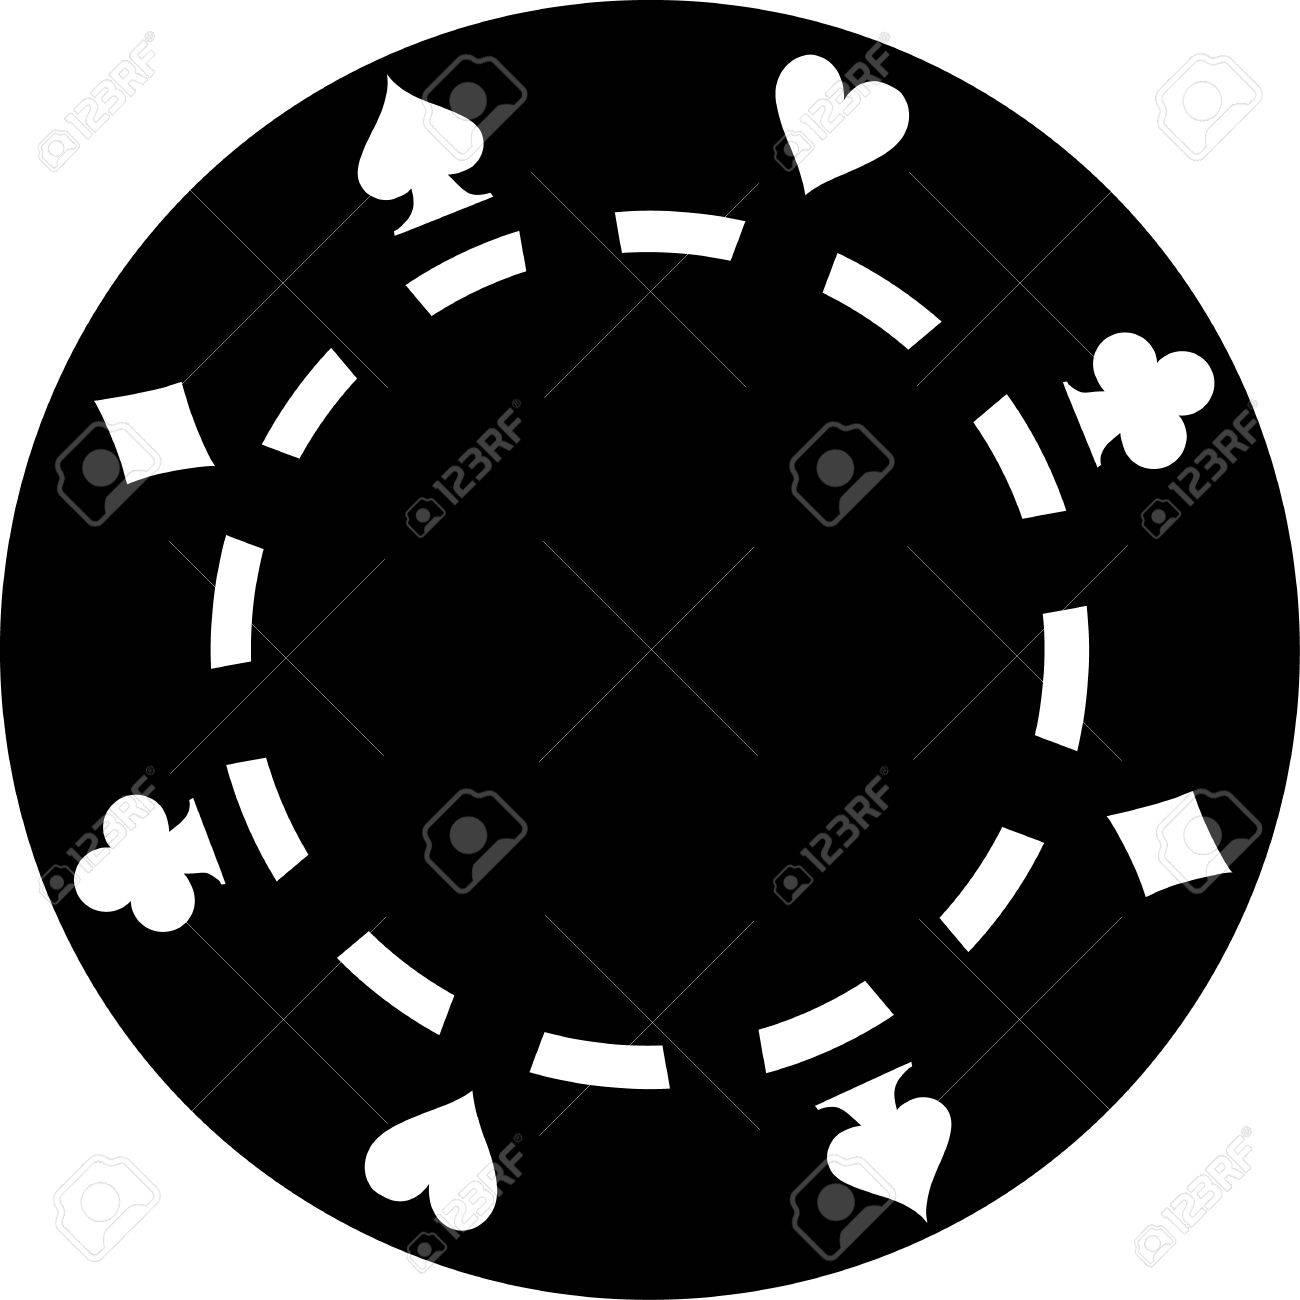chip-black: (2, 2, 1298, 1298)
